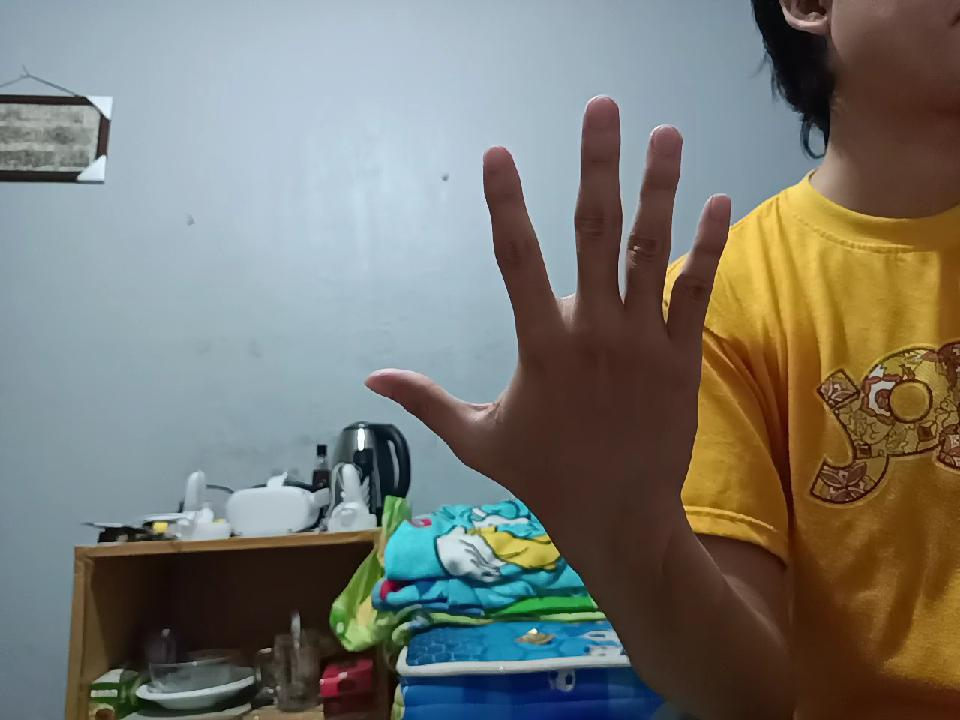paper: (374, 137, 751, 534)
